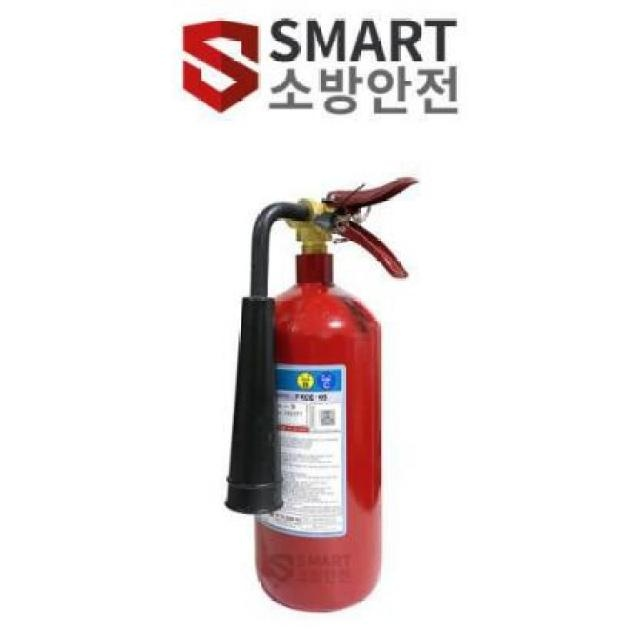fire extinguisher: (222, 176, 421, 613)
